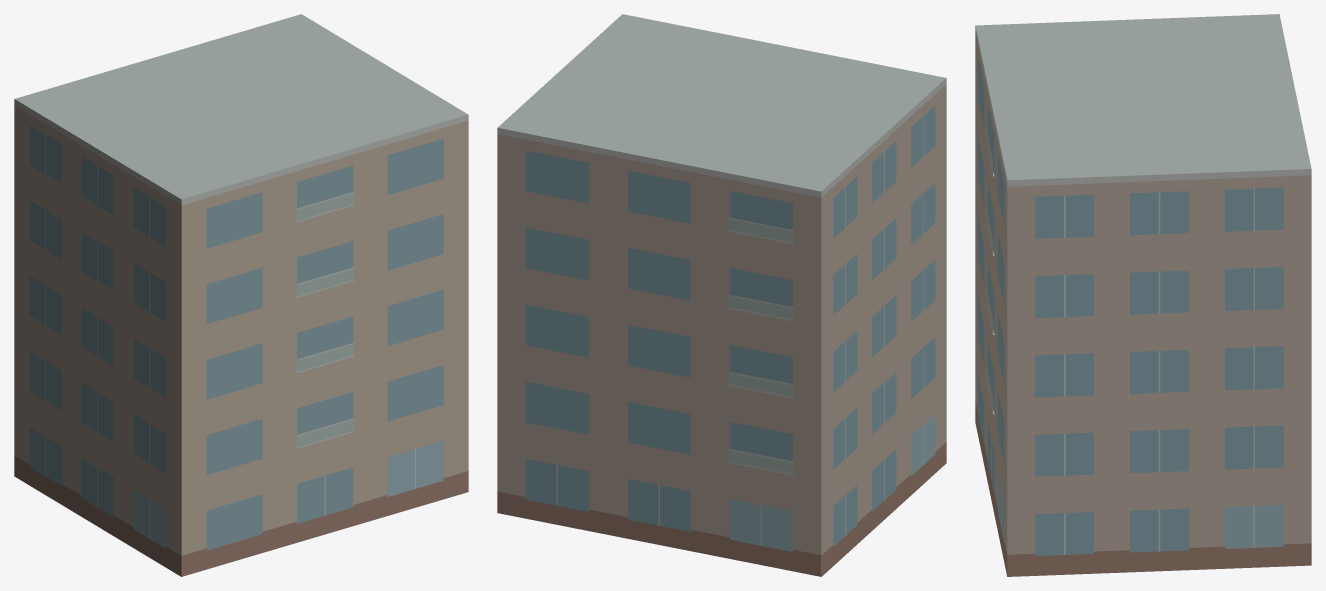
Rendered from survey-upis-32916652.glb.
3 views of the same model, side by side, from view 1: azimuth 30°, elevation 25°; view 2: azimuth 150°, elevation 25°; view 3: azimuth 270°, elevation 25° (orthographic). The views are drawn at different scales.
Visible parts, largest first — view 1: survey-upis-32916652.tmp; view 2: survey-upis-32916652.tmp; view 3: survey-upis-32916652.tmp.
Boxes of the visible parts, x1,y1,x2,y2 form: survey-upis-32916652.tmp: [14, 14, 468, 576]; survey-upis-32916652.tmp: [497, 14, 946, 576]; survey-upis-32916652.tmp: [975, 14, 1311, 576].
Size of the model in its own units: 13.73 by 15.25 by 11.73.
